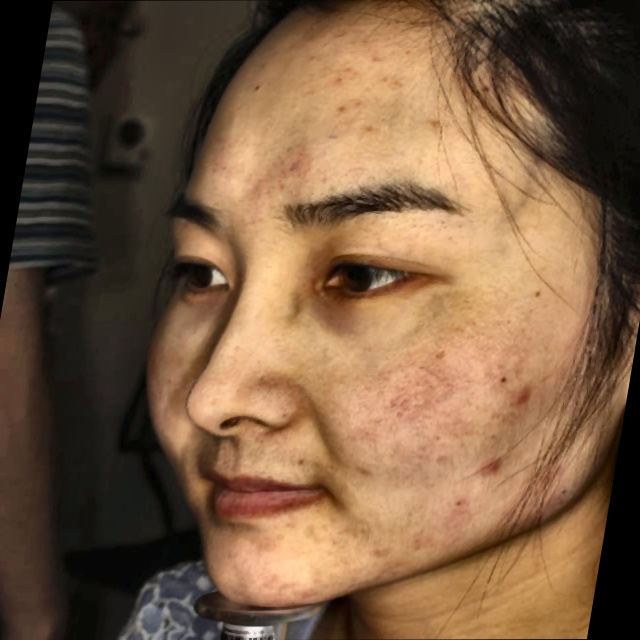comedone: (477, 453, 511, 486), (514, 383, 540, 408)
